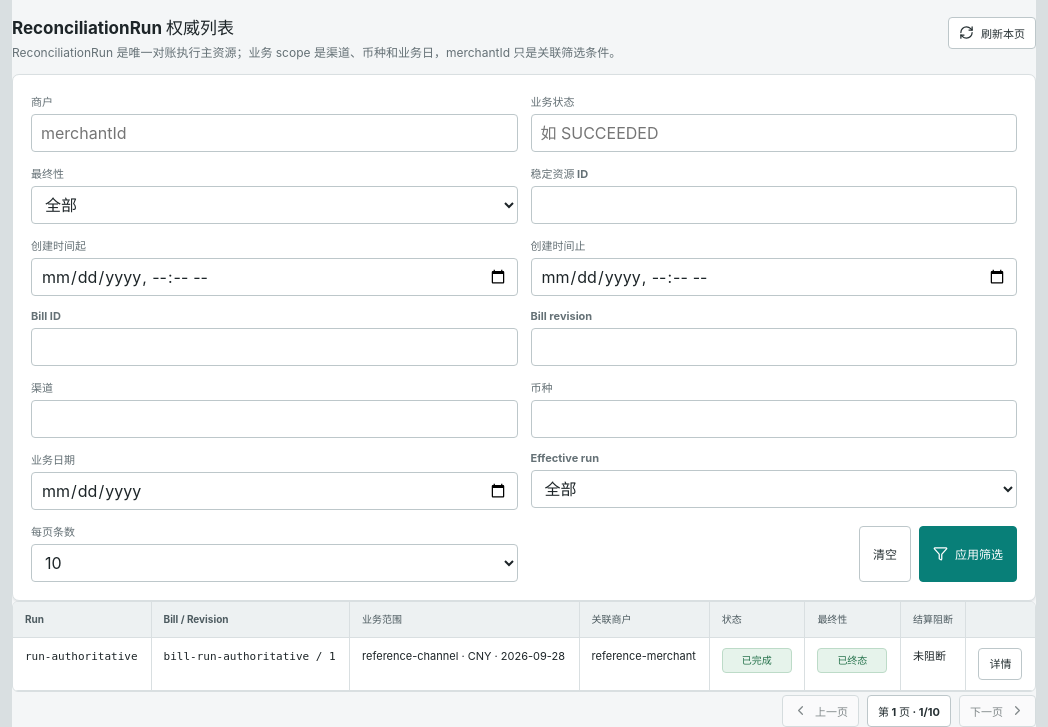
Test case: 次级资源权威详情与刷新 › ReconciliationRun 列表摘要只作导航，点击后读取包含差异的权威详情
The width and height of the screenshot is (1048, 727).
(page scrolled)
What coordinates should you click on to do the following:
click the button "详情"
I would click on:
 (1000, 664)
Its box is [978,648,1022,680].
(page scrolled)
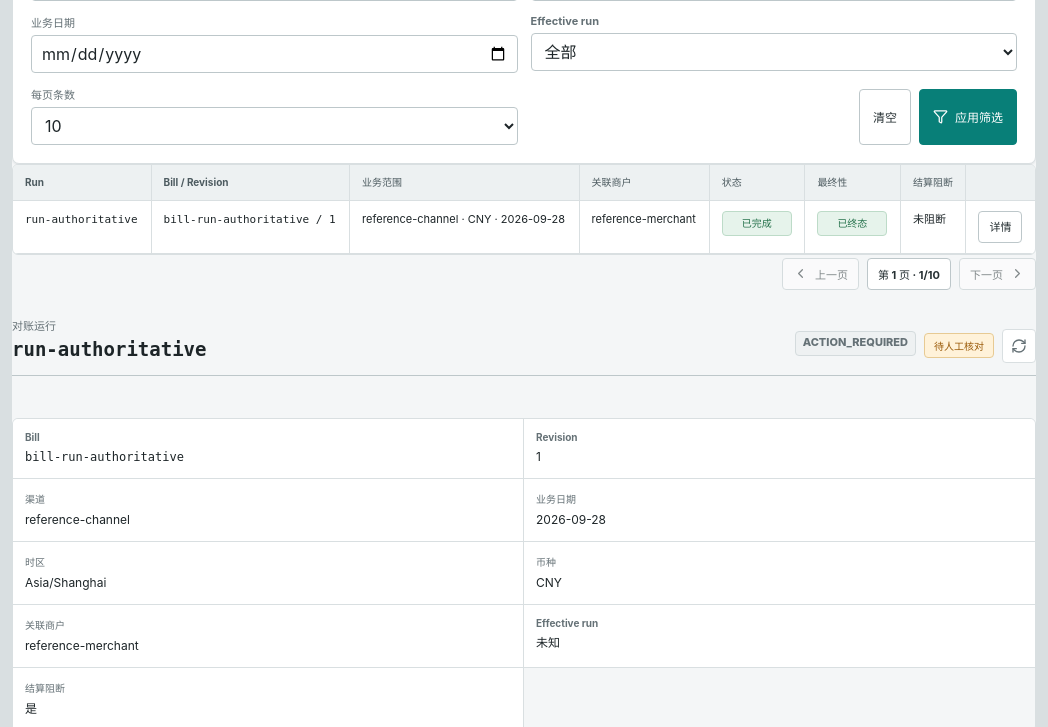
Now the element with class "detail-heading" shows "run-authoritative", box [12,338,206,360]
